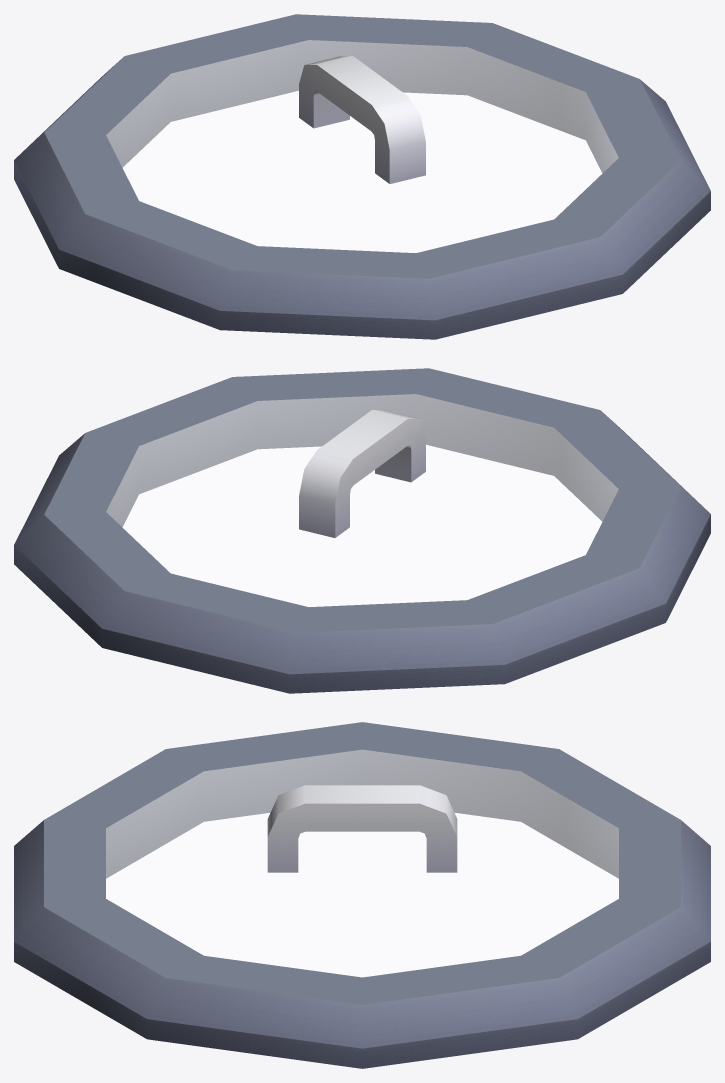
Rendered from pot.glb.
3 renders of one model, top to bottom at view 1: azimuth 30°, elevation 25°; view 2: azimuth 150°, elevation 25°; view 3: azimuth 270°, elevation 25°, orthographic. The views are drawn at different scales.
Parts seen in each view (by area): view 1: pot-stew-lid, (%ignore); view 2: pot-stew-lid, (%ignore); view 3: pot-stew-lid, (%ignore).
Boxes of the visible parts, x1,y1,x2,y2 form: pot-stew-lid: (14,14,710,339); (%ignore): (106,40,618,252); pot-stew-lid: (14,368,710,693); (%ignore): (106,394,618,606); pot-stew-lid: (14,722,710,1068); (%ignore): (106,749,618,977).
Size of the model in its own units: 0.3 by 0.054 by 0.2853.
2 materials, 1 textured.
